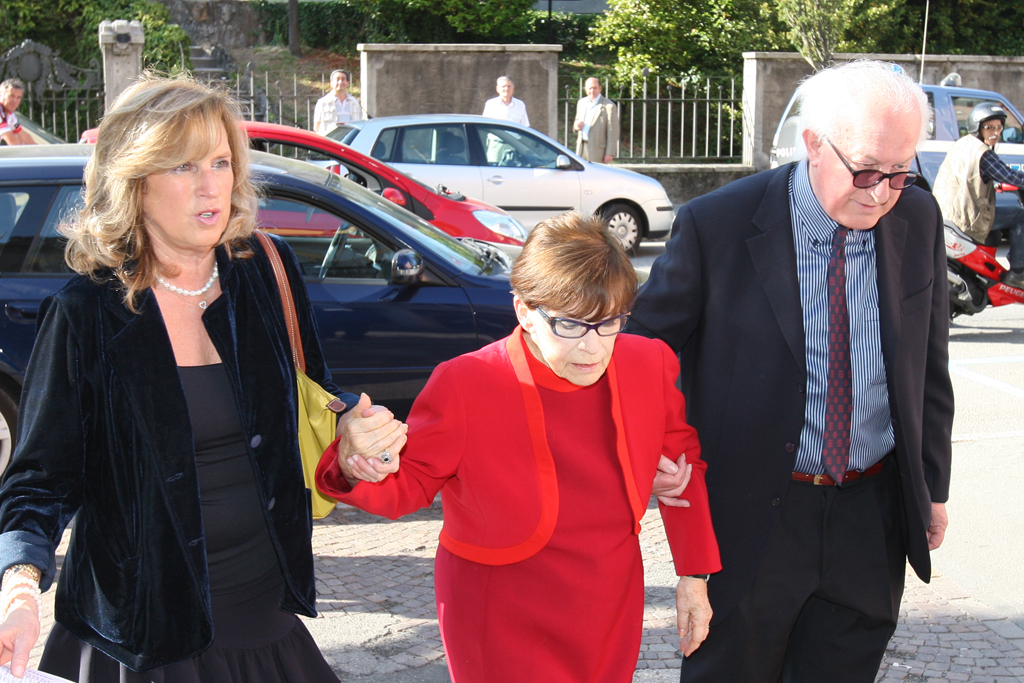Car: (0, 141, 643, 481), (305, 102, 672, 249), (67, 124, 519, 241), (766, 75, 1022, 240)
